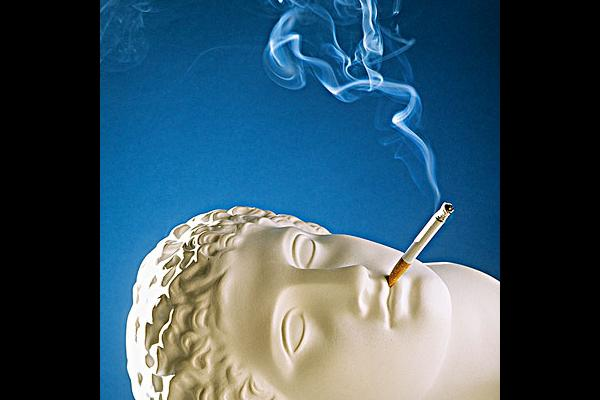Cigarette: (386, 202, 454, 286)
Smoke: (268, 0, 428, 165)
